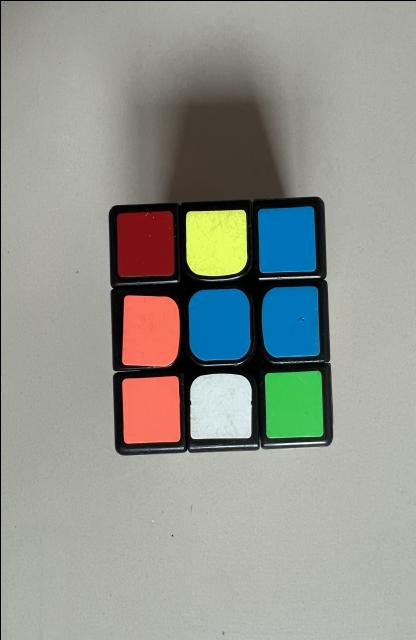Blue: (187, 288, 249, 360), (261, 285, 318, 356), (257, 205, 315, 272)
Green: (264, 370, 323, 438)
Orange: (121, 295, 179, 365), (121, 375, 180, 442)
Red: (116, 210, 173, 276)
White: (190, 372, 250, 438)
Yellow: (185, 209, 246, 275)
